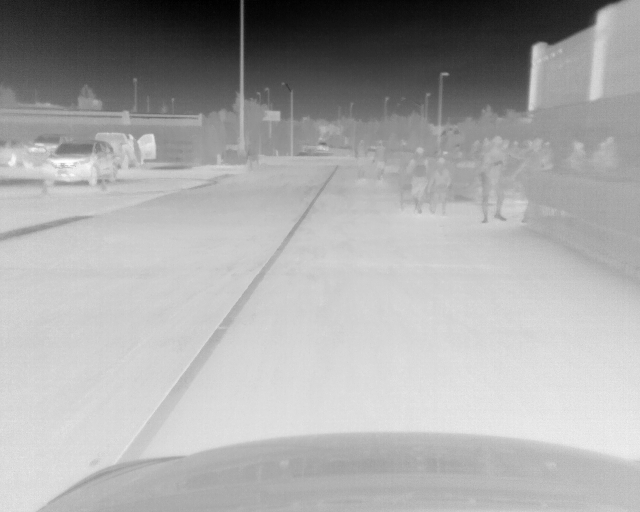car: (45, 138, 117, 183), (95, 131, 156, 168), (2, 139, 44, 167), (34, 133, 65, 154), (316, 140, 330, 151)
people: (478, 137, 507, 223), (515, 138, 542, 224), (405, 145, 431, 214), (430, 158, 452, 214), (591, 135, 620, 171), (566, 140, 589, 170), (375, 138, 387, 180), (354, 140, 366, 179), (134, 138, 143, 168)
